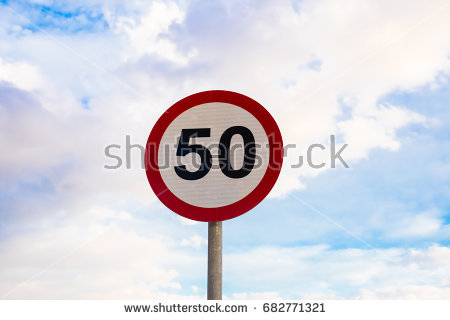Speed_limit_50km: (143, 90, 287, 222)
